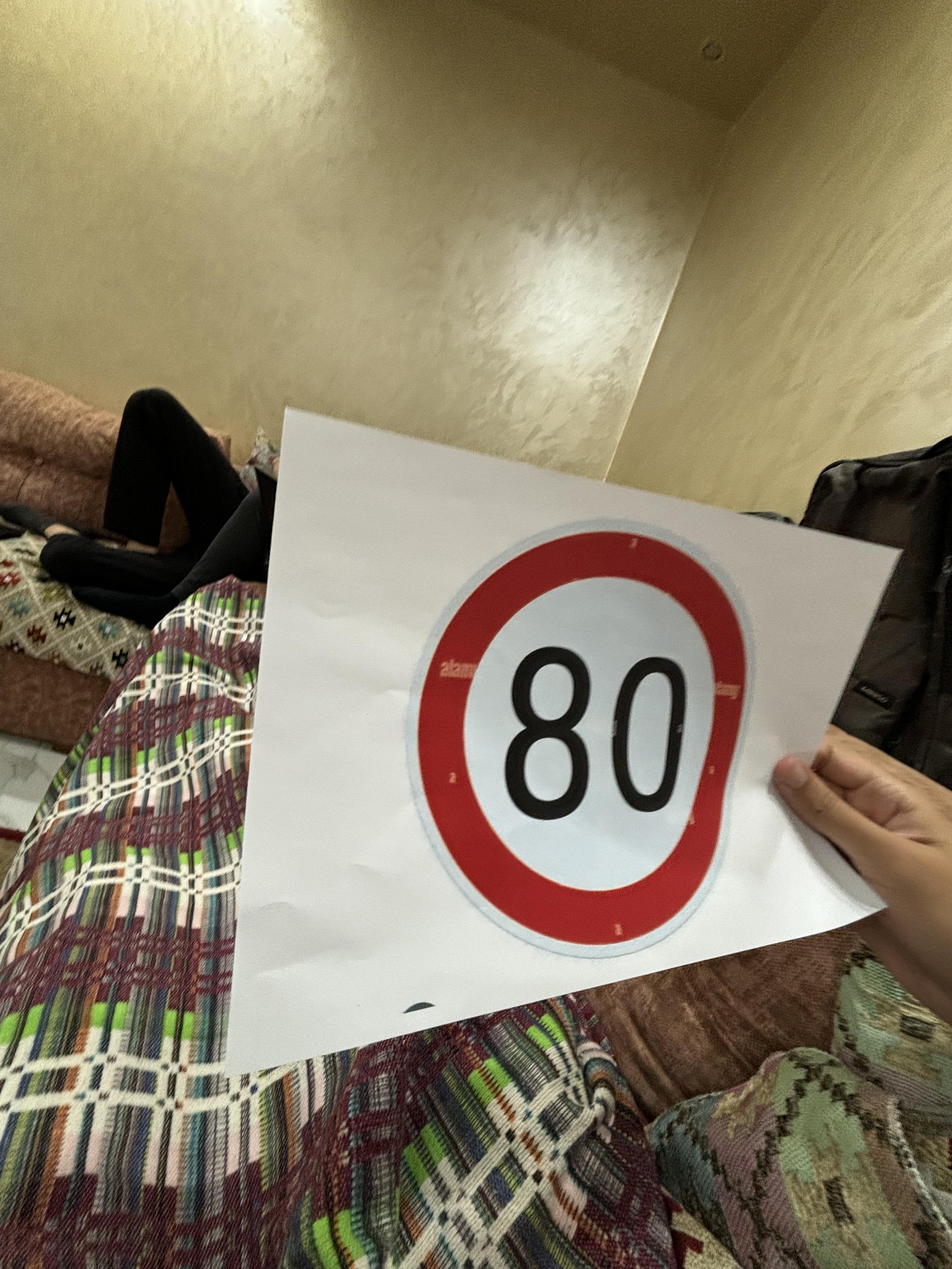80-Speed: (400, 495, 750, 961)
